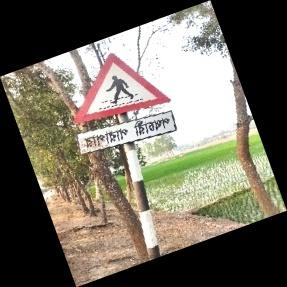Pedestrian-crossing: (73, 52, 177, 158)
